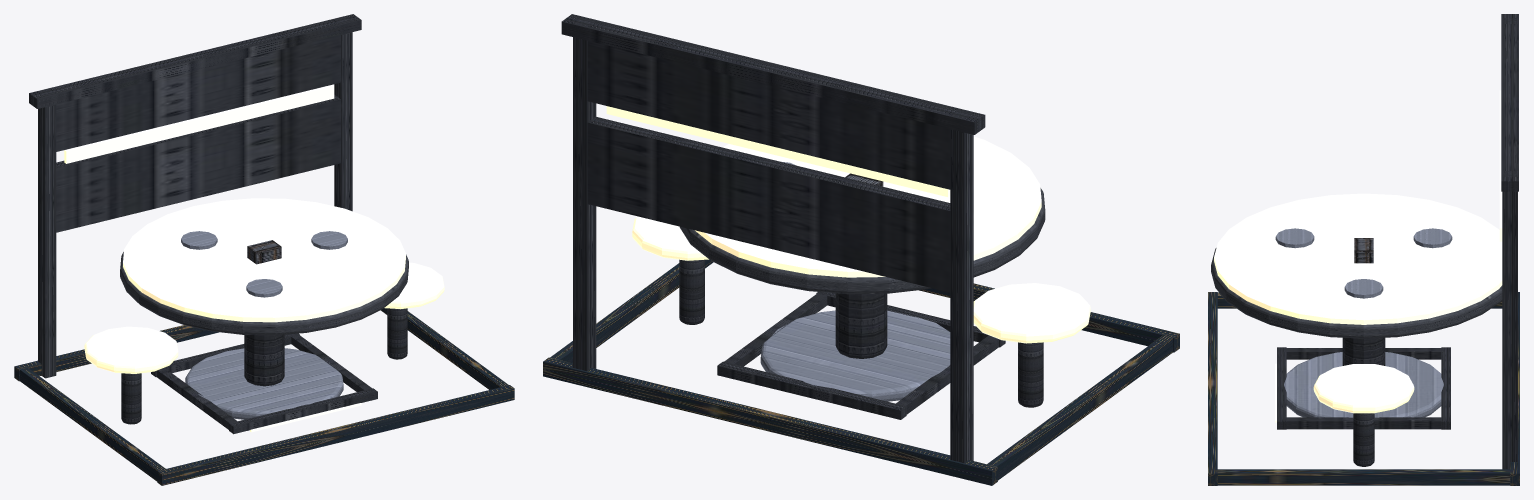
The model's file is transit_diningtable.glb.
3 renders of one model, left to right at view 1: azimuth 30°, elevation 25°; view 2: azimuth 150°, elevation 25°; view 3: azimuth 270°, elevation 25°, orthographic. The views are drawn at different scales.
Parts seen in each view (by area): view 1: sight_shell, rim, base, shelltoe0, top, sightglow, stool0, shelltoes0, post, shelltoes2, shellrim0, stool2 (+10 smaller); view 2: sight_shell, base, rim, shelltoe2, stool0, top, shelltoes0, post, sightglow, shellrim2, shelltoes2, shelltoe0 (+6 smaller); view 3: rim, sight_shell, shelltoes2, base, top, stool2, shelltoe0, shellrims2, post, stoolpost2, shellrims0, shellrim2 (+7 smaller).
Boxes of the visible parts, <box> form: sight_shell: <box>29,14,361,378</box>; rim: <box>123,198,405,322</box>; base: <box>185,348,343,419</box>; shelltoe0: <box>157,385,514,485</box>; top: <box>120,252,408,335</box>; sightglow: <box>64,84,334,163</box>; stool0: <box>84,326,178,373</box>; shelltoes0: <box>19,366,166,481</box>; post: <box>244,334,284,386</box>; shelltoes2: <box>380,308,508,389</box>; shellrim0: <box>229,388,377,434</box>; stool2: <box>384,262,444,309</box>; sight_shell: <box>561,14,985,463</box>; base: <box>760,310,950,401</box>; rim: <box>695,136,1041,277</box>; shelltoe2: <box>543,357,997,485</box>; stool0: <box>973,283,1090,343</box>; top: <box>679,188,1045,294</box>; shelltoes0: <box>985,334,1174,480</box>; post: <box>835,293,887,358</box>; sightglow: <box>606,106,950,196</box>; shellrim2: <box>717,361,906,419</box>; shelltoes2: <box>550,259,713,363</box>; shelltoe0: <box>919,283,1179,352</box>; rim: <box>1214,193,1502,324</box>; sight_shell: <box>1501,14,1518,469</box>; shelltoes2: <box>1215,469,1512,485</box>; base: <box>1284,352,1443,417</box>; top: <box>1211,248,1502,338</box>; stool2: <box>1313,364,1414,413</box>; shelltoe0: <box>1208,292,1217,485</box>; shellrims2: <box>1286,417,1441,429</box>; post: <box>1342,337,1385,365</box>; stoolpost2: <box>1353,413,1374,466</box>; shellrims0: <box>1283,348,1444,359</box>; shellrim2: <box>1441,347,1450,429</box>.
Size of the model in its own units: 2.23 by 1.7 by 1.61.
9 materials, 7 textured.
